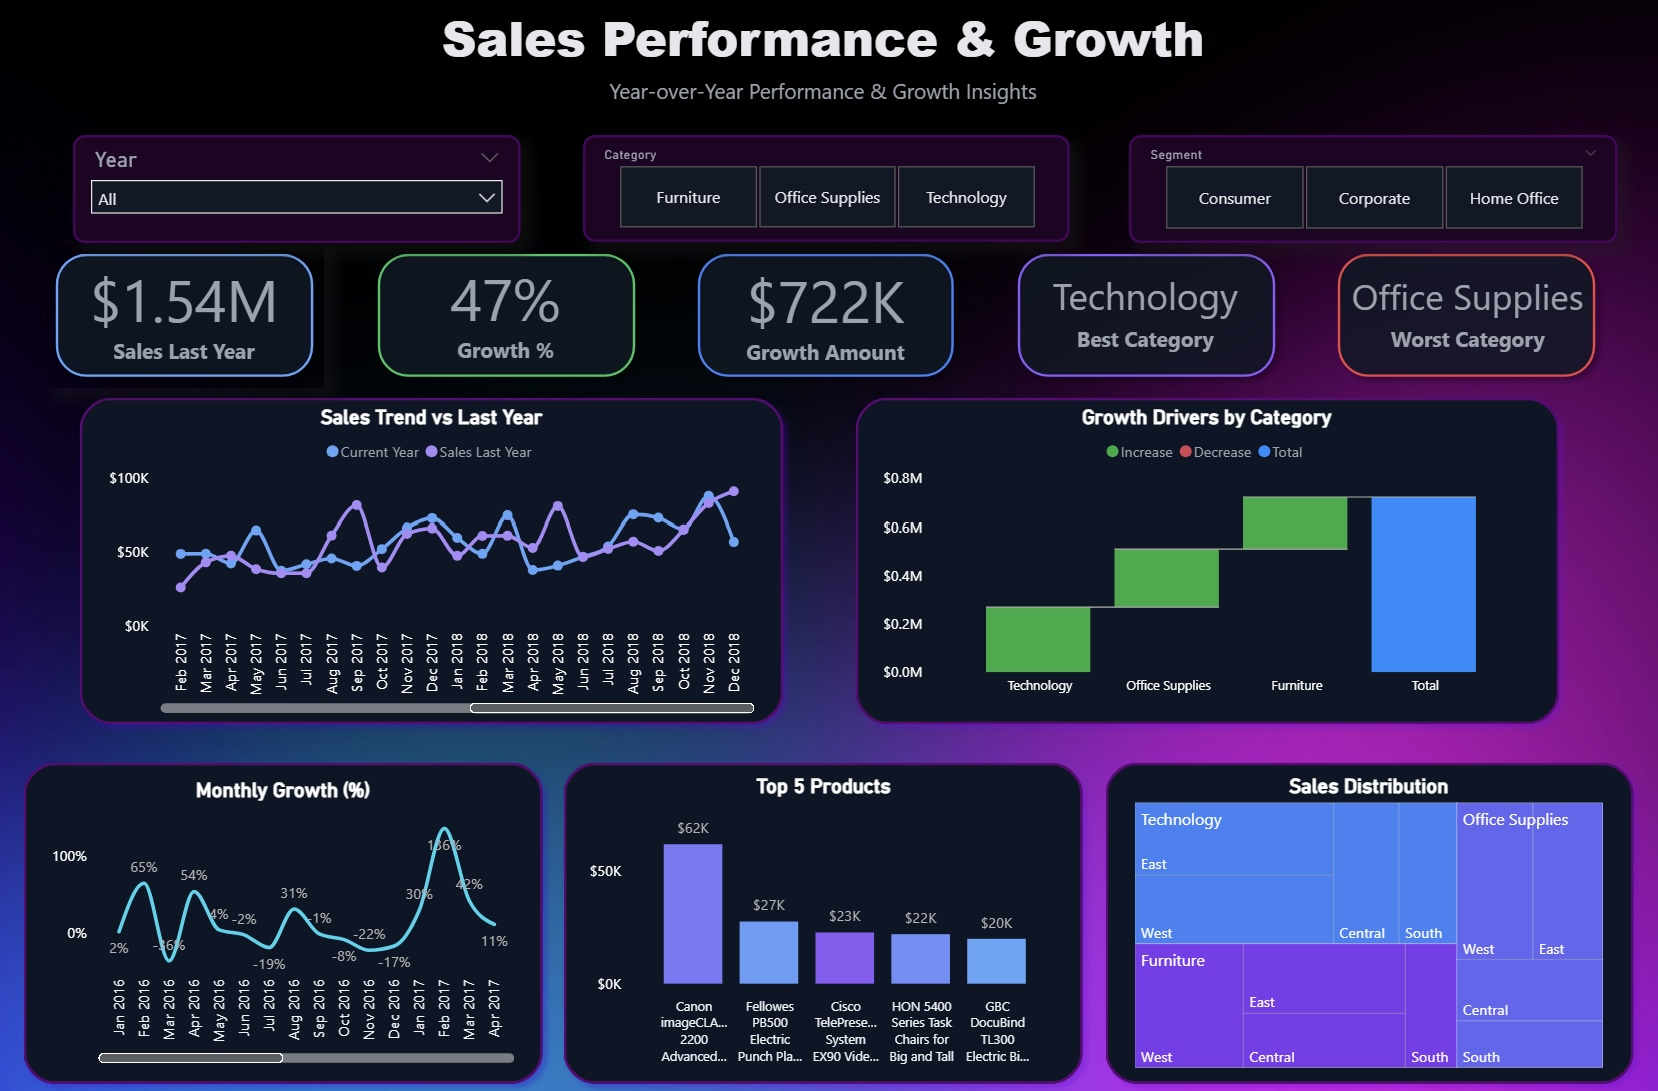

What the dashboard file says about the page in this screenshot:
{"tool":"powerbi","page":{"name":"Performance & Growth Insights","canvas":[1400,950],"ordinal":2},"visuals":[{"type":"shape","box":[71.4,361.7,604,289.1],"z":0},{"type":"shape","box":[718.5,361.7,604,289.1],"z":1000},{"type":"shape","box":[853.2,241.1,232.5,120.6],"z":2000},{"type":"shape","box":[926.4,665.6,457.6,285.4],"z":3000},{"type":"shape","box":[475.5,665.6,450.3,285.4],"z":4000},{"type":"shape","box":[586.8,241.1,231.3,120.6],"z":5000},{"type":"shape","box":[24.6,665.6,450.3,285.4],"z":6000},{"type":"shape","box":[1120.7,241.1,232.5,120.6],"z":7000},{"type":"shape","box":[51.7,241.1,232.5,120.6],"z":8000},{"type":"shape","box":[319.2,241.1,232.5,120.6],"z":9000},{"type":"card","fields":{"Values":["train.Sales LY"]},"box":[73.8,253.4,188.2,91],"z":10000},{"type":"textbox","title":"Sales Performance & Growth","box":[252.2,41.8,896.8,91],"z":11000},{"type":"card","fields":{"Values":["train.Best Category"]},"box":[879.6,257.1,177.2,82.4],"z":12000},{"type":"card","fields":{"Values":["train.Worst Category"]},"box":[1133,253.4,207.9,89.8],"z":13000},{"type":"card","fields":{"Values":["train.Growth %"]},"box":[356.8,246.8,157.6,103.1],"z":14000},{"type":"card","fields":{"Values":["train.Growth Amount"]},"box":[606.5,241.1,190.7,115.6],"z":15000},{"type":"lineChart","title":"Sales Trend vs Last Year","fields":{"Category":["Calendar.Month Year"],"Y":["train.Total Sales"],"Y2":["train.Sales Last Year"]},"box":[99.6,376.4,547.5,260.8],"z":16000},{"type":"waterfallChart","title":"Growth Drivers by Category","fields":{"Category":["train.Category"],"Y":["train.Growth Amount"]},"box":[745.5,376.4,549.9,249.7],"z":17000},{"type":"lineChart","title":"Monthly Growth (%)","fields":{"Y":["train.Growth %"],"Category":["Calendar.Month Year"]},"box":[51.7,686.5,396.1,242.4],"z":18000},{"type":"treemap","title":"Sales Distribution ","fields":{"Group":["train.Category"],"Details":["train.Region"],"Values":["train.Total Sales"]},"box":[954.7,682.8,399.8,249.7],"z":19000},{"type":"clusteredColumnChart","title":"Top 5 Products","fields":{"Category":["train.Product Name"],"Y":["train.Total Sales"]},"box":[499.5,682.8,401.1,249.7],"z":20000},{"type":"slicer","fields":{"Values":["Calendar.Year"]},"box":[75,151.3,372.8,89.8],"z":21000},{"type":"slicer","fields":{"Values":["train.Category"]},"box":[499.3,151.8,405.5,89.2],"z":22000},{"type":"slicer","fields":{"Values":["train.Segment"]},"box":[954.7,151.3,407.2,89.8],"z":23000}]}

Visuals, with their boxes on the page's 1400x950 design canvas (x1, y1, x2, y2). These are canvas units, not pixel positions in the 1658x1091 screenshot, which may show the page scaled, cropped or inside an application window:
shape: bbox=[71, 362, 675, 651]
shape: bbox=[718, 362, 1322, 651]
shape: bbox=[853, 241, 1086, 362]
shape: bbox=[926, 666, 1384, 951]
shape: bbox=[476, 666, 926, 951]
shape: bbox=[587, 241, 818, 362]
shape: bbox=[25, 666, 475, 951]
shape: bbox=[1121, 241, 1353, 362]
shape: bbox=[52, 241, 284, 362]
shape: bbox=[319, 241, 552, 362]
card - train.Sales LY: bbox=[74, 253, 262, 344]
"Sales Performance & Growth" textbox: bbox=[252, 42, 1149, 133]
card - train.Best Category: bbox=[880, 257, 1057, 340]
card - train.Worst Category: bbox=[1133, 253, 1341, 343]
card - train.Growth %: bbox=[357, 247, 514, 350]
card - train.Growth Amount: bbox=[606, 241, 797, 357]
"Sales Trend vs Last Year" lineChart: bbox=[100, 376, 647, 637]
"Growth Drivers by Category" waterfallChart: bbox=[746, 376, 1295, 626]
"Monthly Growth (%)" lineChart: bbox=[52, 686, 448, 929]
"Sales Distribution " treemap: bbox=[955, 683, 1354, 932]
"Top 5 Products" clusteredColumnChart: bbox=[500, 683, 901, 932]
slicer - Calendar.Year: bbox=[75, 151, 448, 241]
slicer - train.Category: bbox=[499, 152, 905, 241]
slicer - train.Segment: bbox=[955, 151, 1362, 241]
